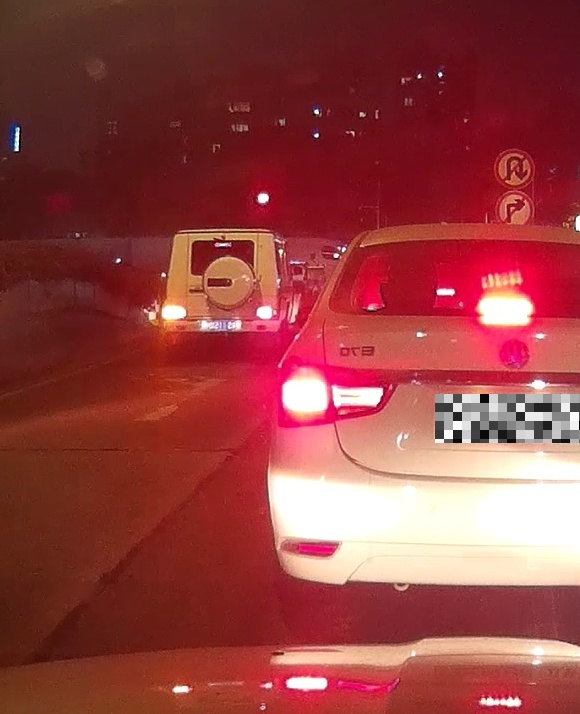L_light: (163, 308, 185, 320)
R_light: (255, 307, 278, 320)
T_light: (214, 242, 231, 247)
night-left: (161, 229, 280, 354)
plate_1: (435, 394, 580, 443)
